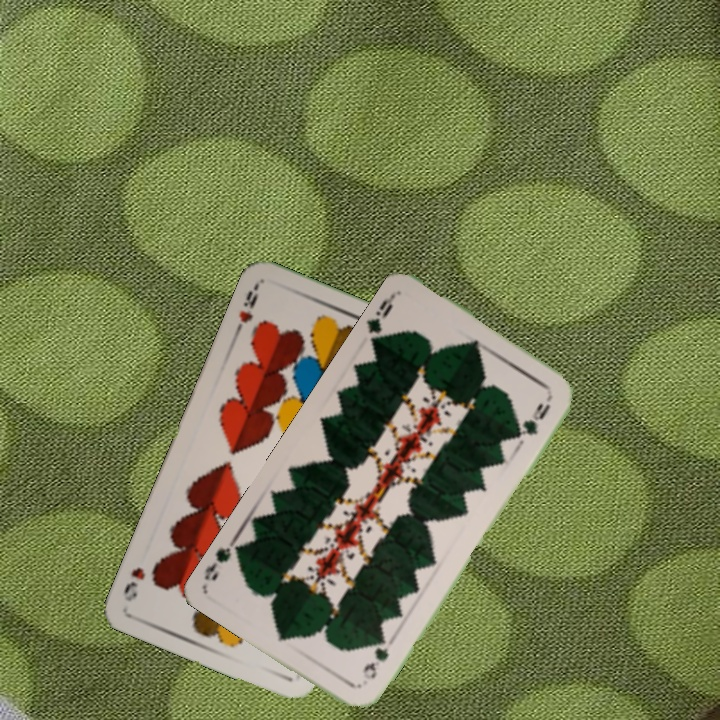G9: (363, 289, 398, 349), (358, 643, 392, 683)
H9: (231, 281, 262, 338)
